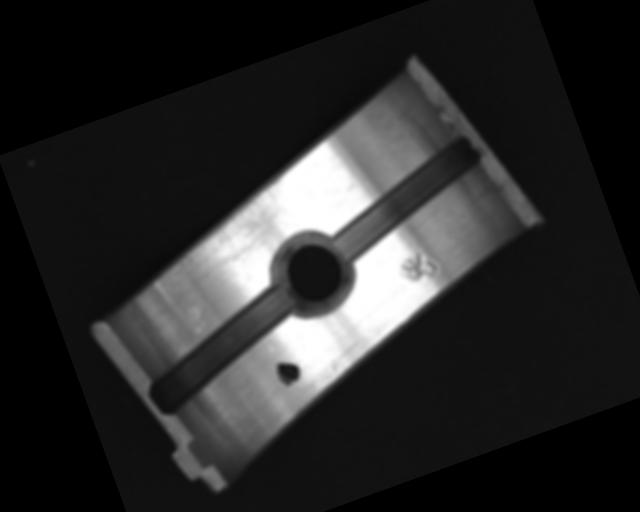blot: (272, 356, 304, 389)
bruise: (394, 246, 440, 288), (183, 302, 210, 338)
gap: (131, 284, 315, 419), (315, 133, 498, 264)
hole: (259, 222, 363, 326)
scratch: (156, 172, 309, 284)
